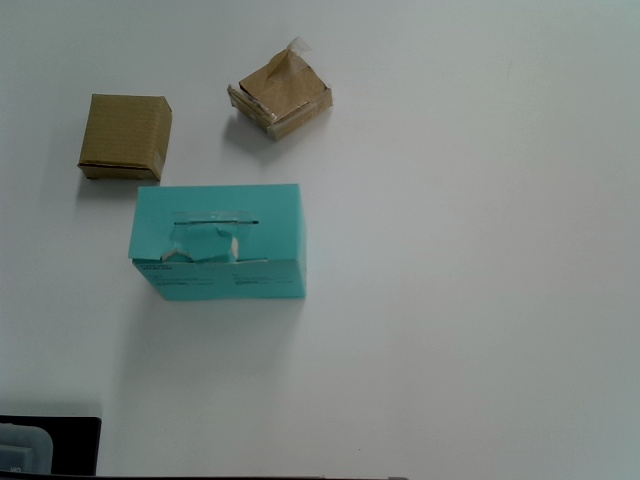defect: (229, 46, 333, 142)
normal: (78, 95, 178, 183)
